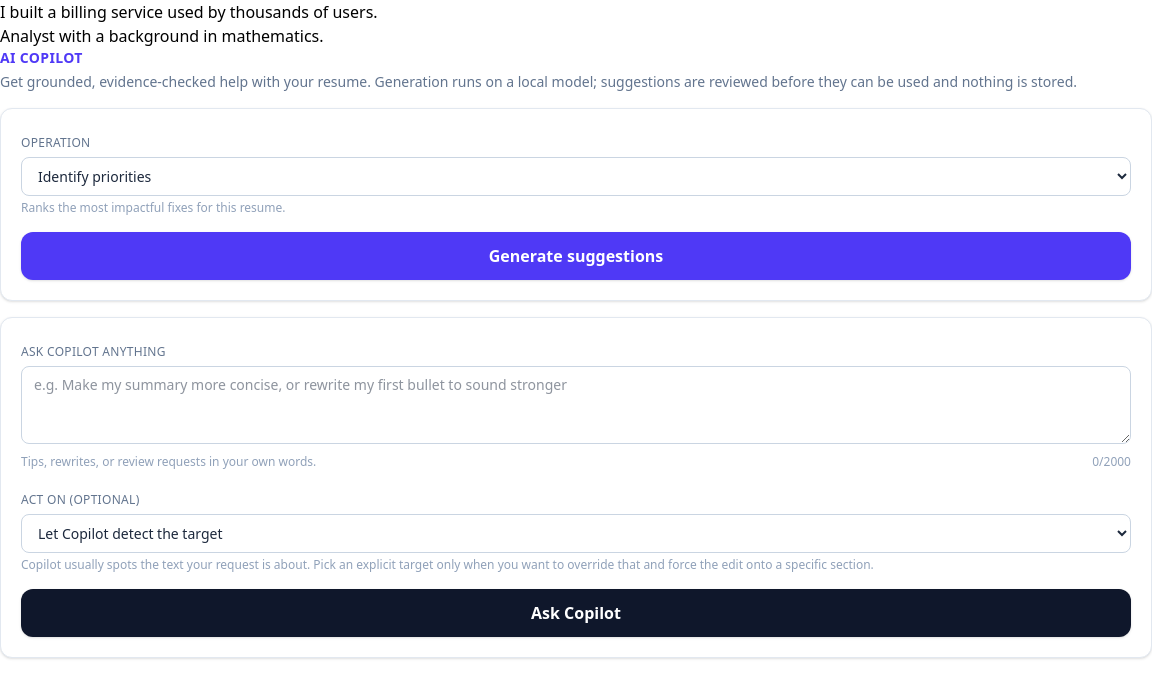
Test: CopilotPanel edit proposals › labels an unverified edit and warns before applying
Click the button "Generate suggestions": (576, 256) [21,232,1131,280]
(page scrolled)
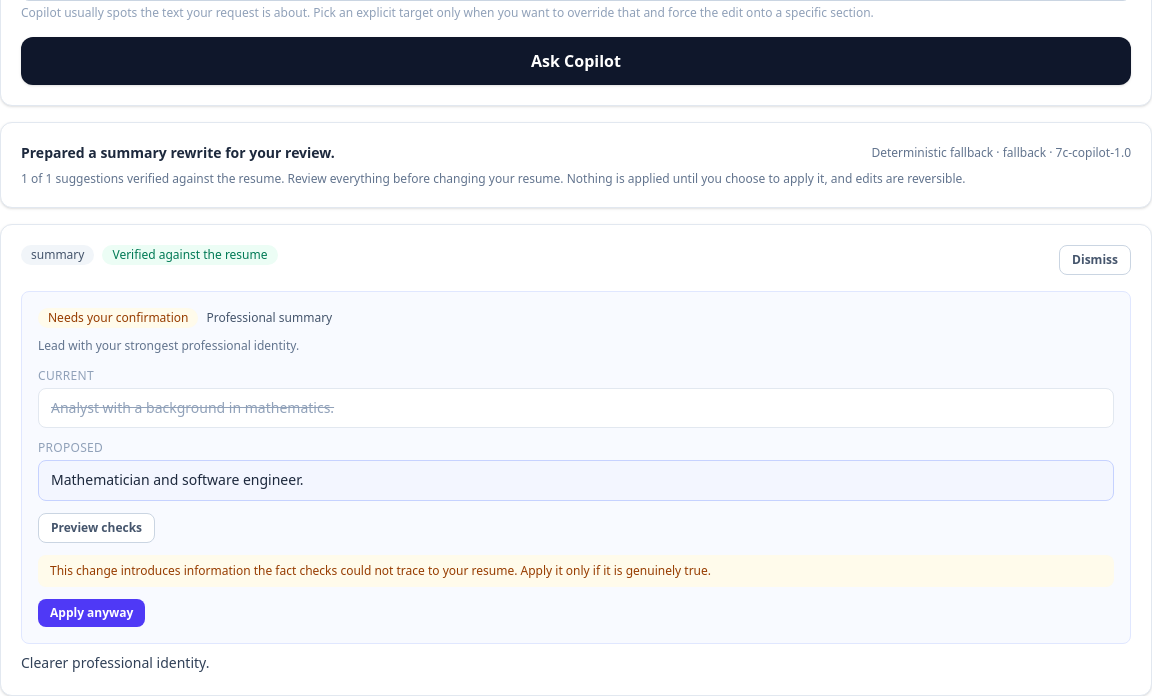
Result: the button "Preview checks" is shown at [38,513,155,543]
Result: the text "Needs your confirmation" is shown at [38,308,198,328]
Result: the button "Apply anyway" is shown at [38,599,145,627]
